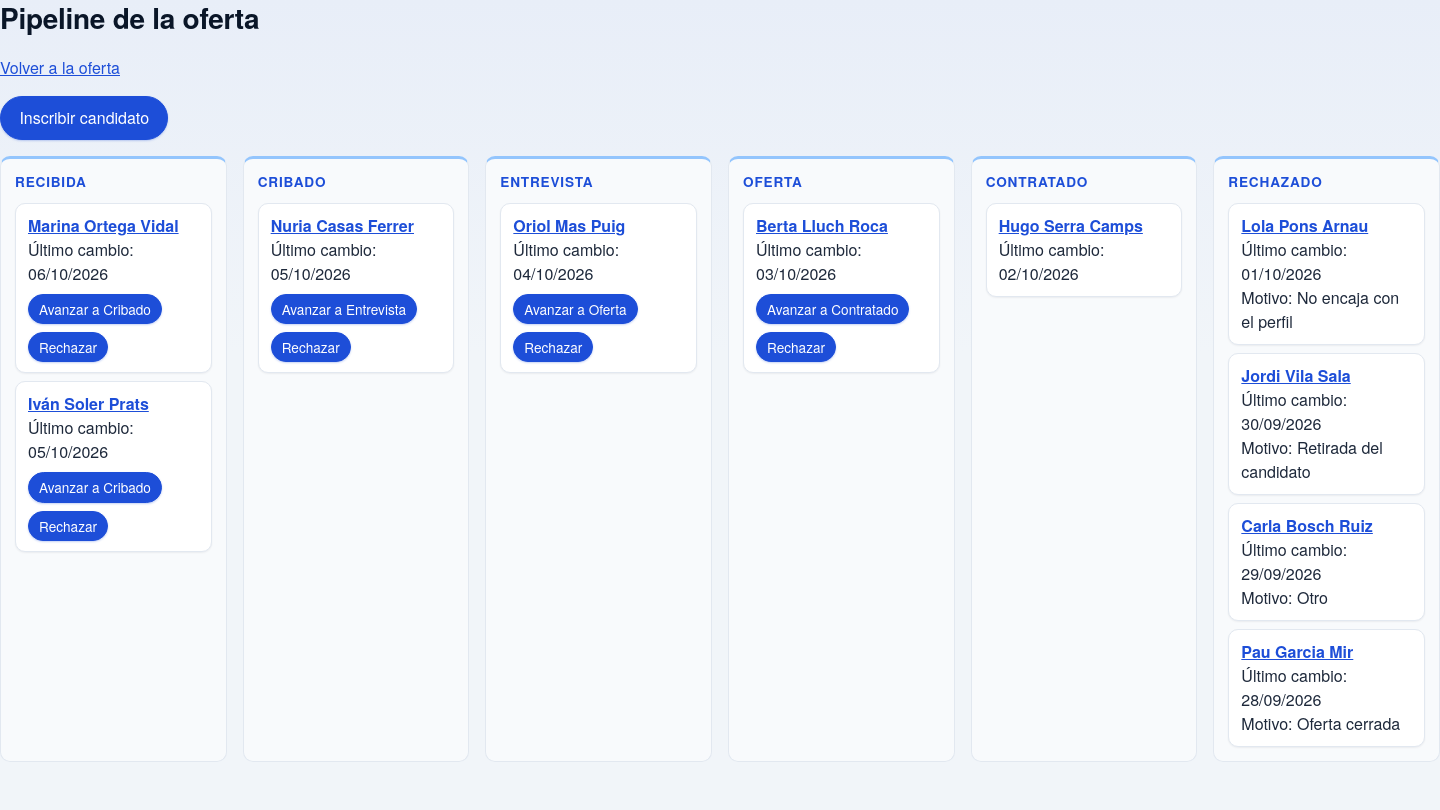
PipelineScreen: inscribir (RF-08) › CA-03: el «Inscribir» 0 envía un solo candidateId (11)
This screenshot has width=1440, height=810.
Click the button "Inscribir candidato".
click(84, 118)  # box left=0, top=96, right=168, bottom=140
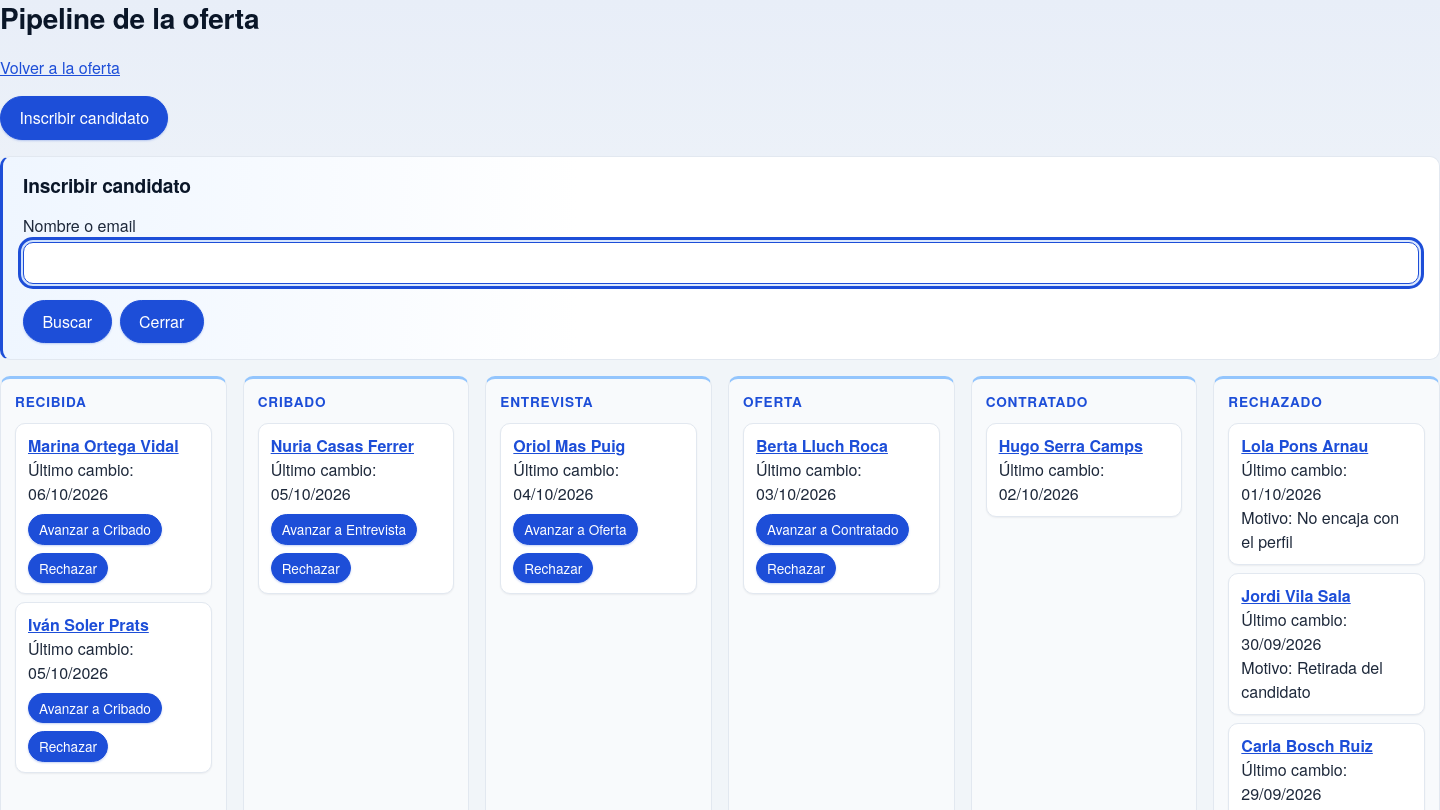
Type "ana" into the search field labelled "Nombre o email".
click(721, 263); type("ana")  # box left=23, top=242, right=1419, bottom=284
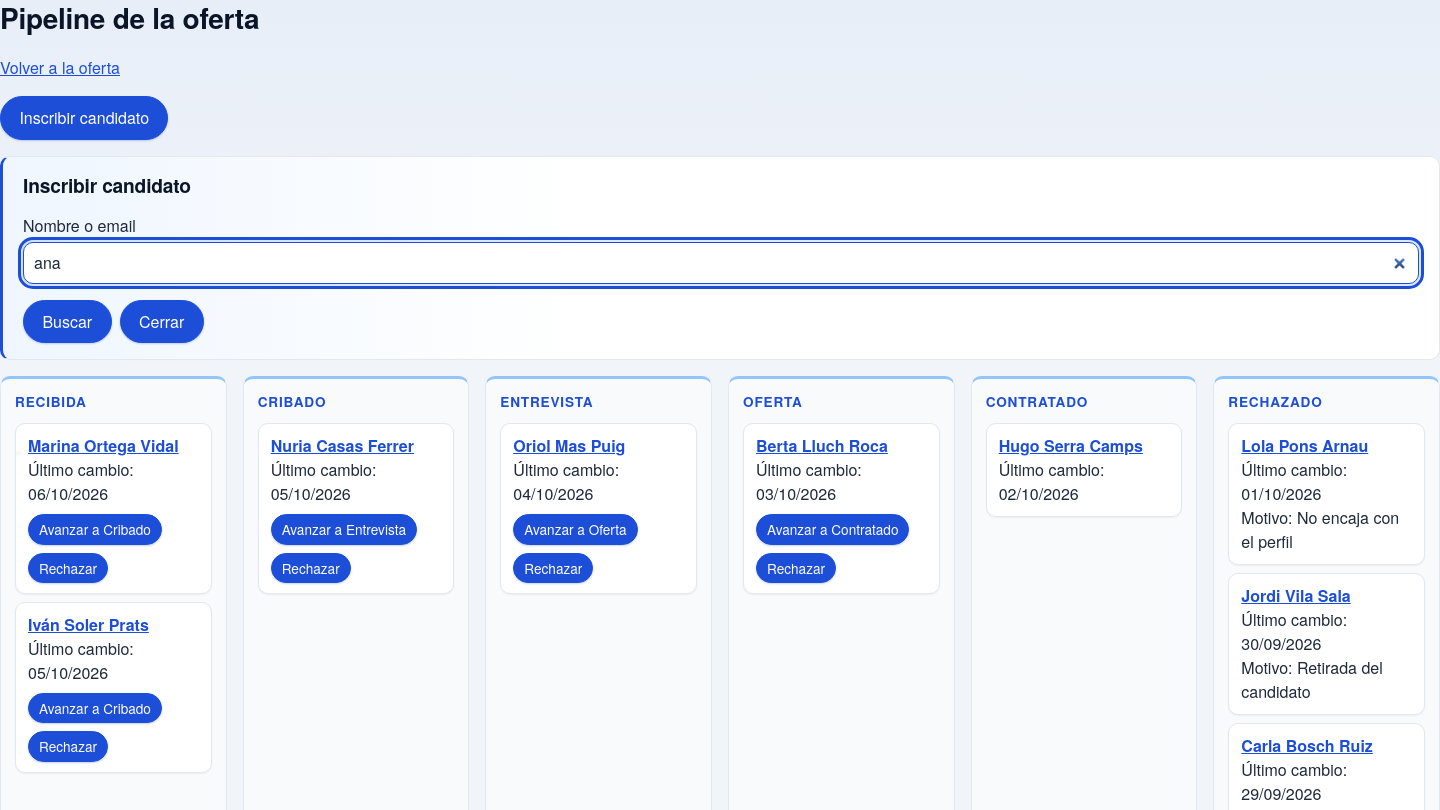
Click the button "Buscar".
click(67, 322)  # box left=23, top=300, right=112, bottom=344
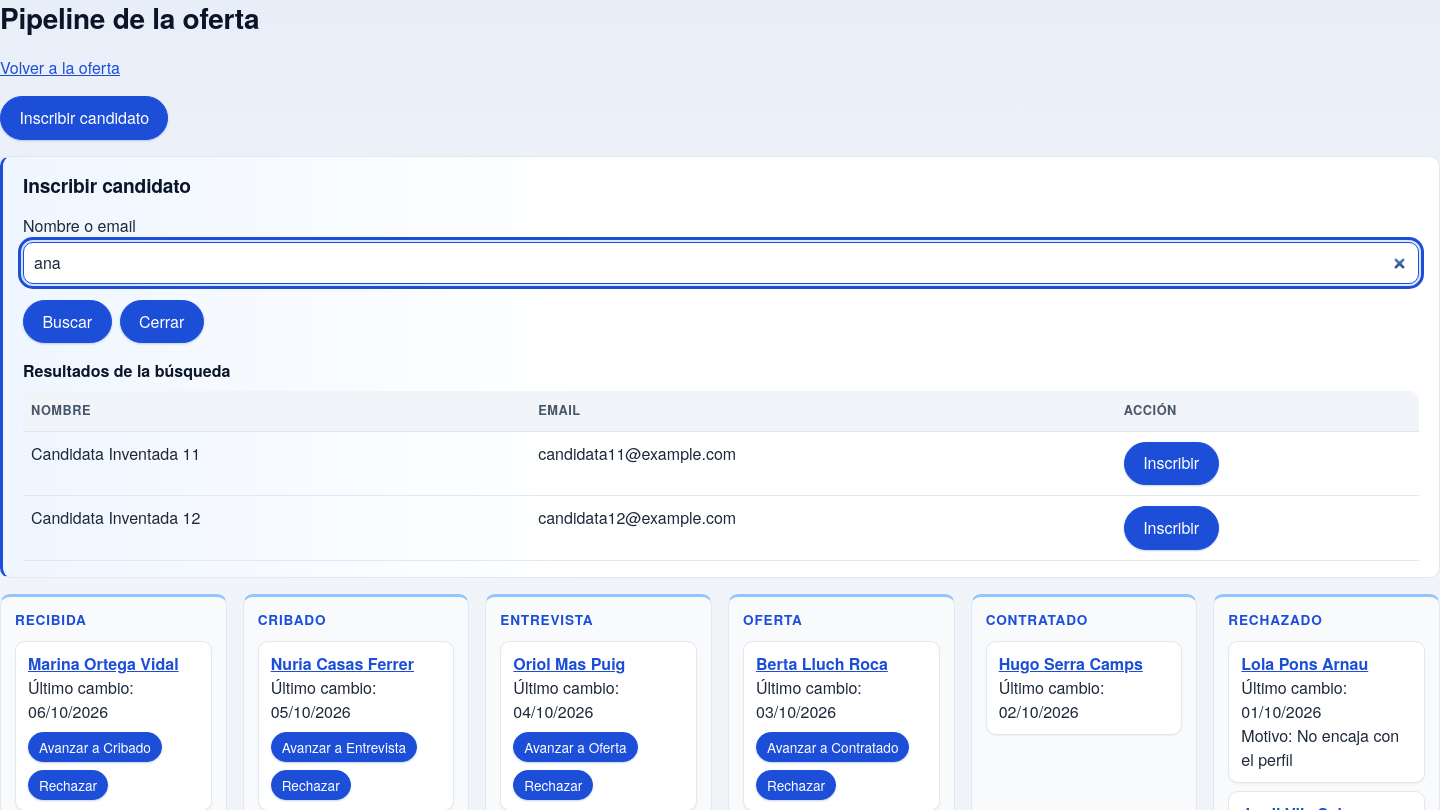
Now the table "Resultados de la búsqueda" is shown, box left=23, top=360, right=1419, bottom=561
Click the button "Inscribir" in the row of "Candidata Inventada 11".
click(1171, 463)  # box left=1124, top=442, right=1219, bottom=485
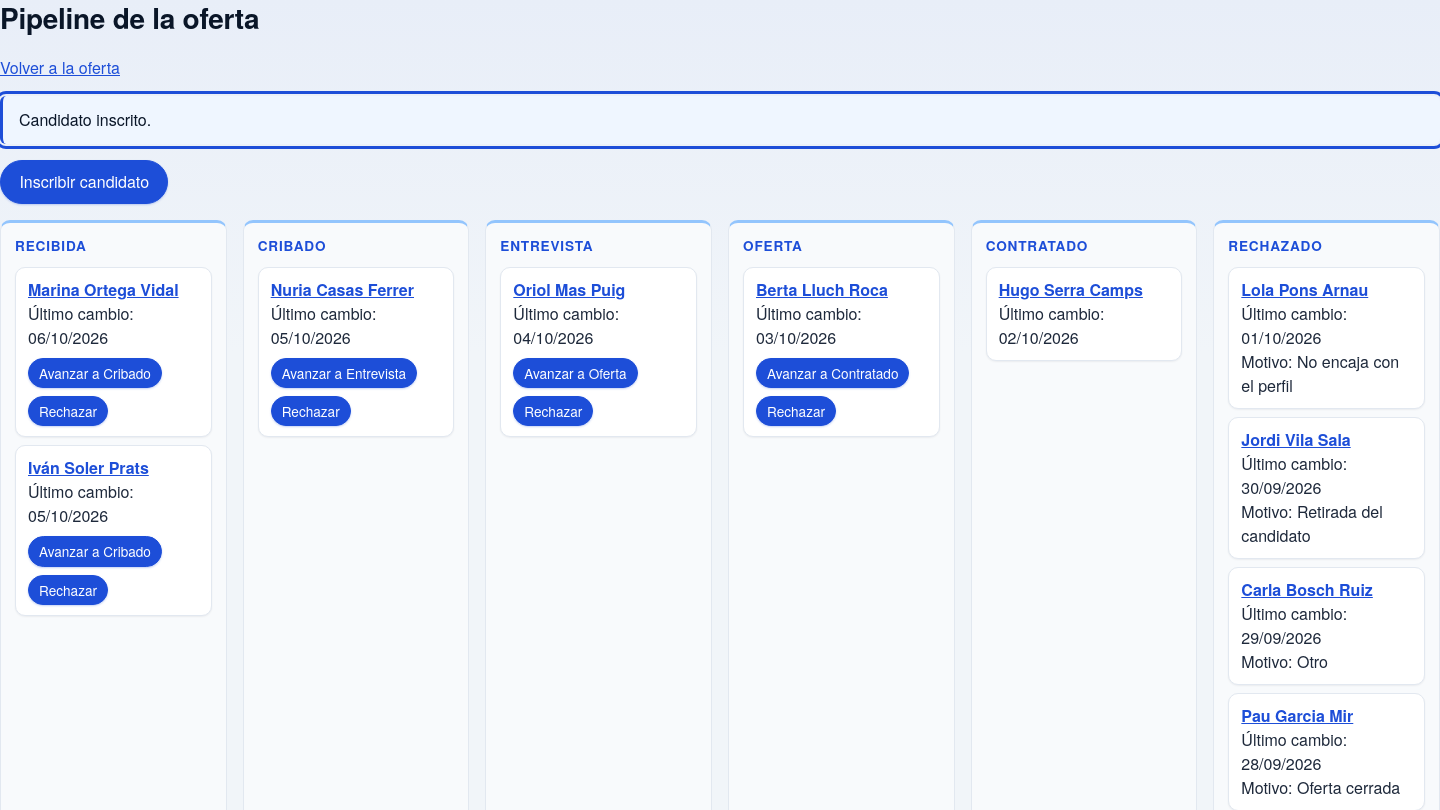
Now the text "Candidato inscrito." is shown, box left=0, top=96, right=1439, bottom=144
